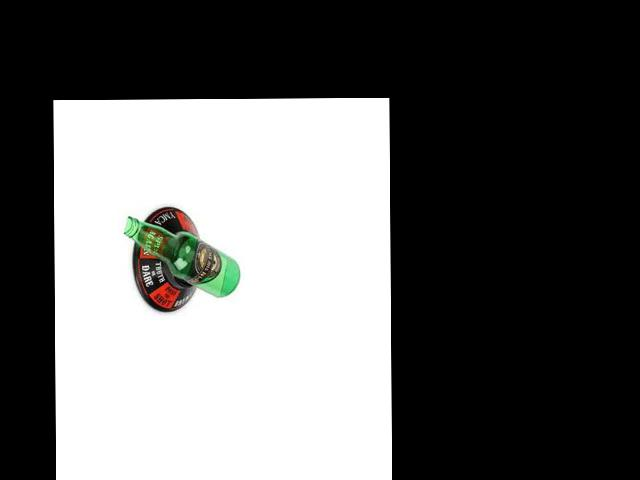beer: (123, 216, 239, 299)
